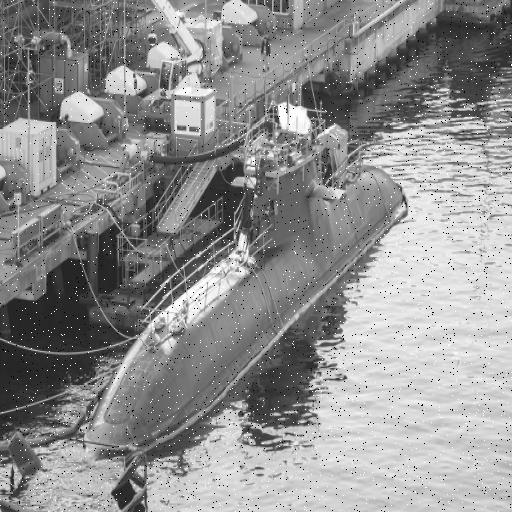submarine: (52, 70, 439, 482)
